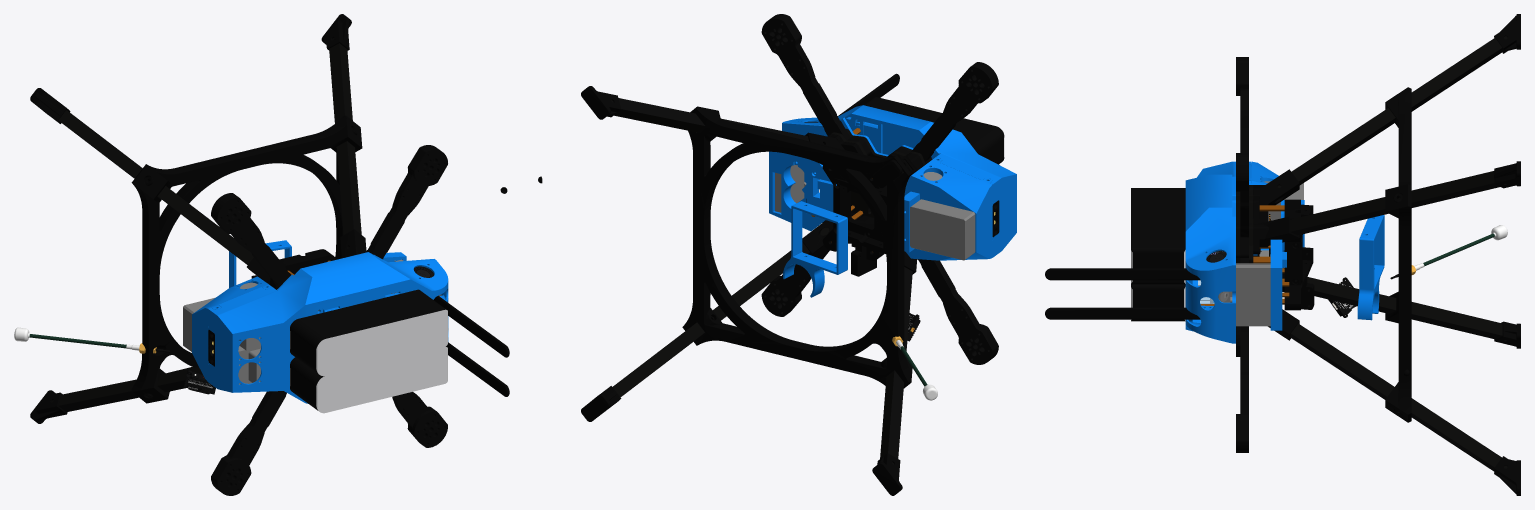
The model's file is body.obj.
3 views of the same model, side by side, from view 1: azimuth 30°, elevation 25°; view 2: azimuth 150°, elevation 25°; view 3: azimuth 270°, elevation 25° (orthographic).
Visible parts, largest first — view 1: firefighter_P4_base_link; view 2: firefighter_P4_base_link; view 3: firefighter_P4_base_link.
Boxes of the visible parts, x1=… form: firefighter_P4_base_link: x1=14, y1=14, x2=509, y2=495; firefighter_P4_base_link: x1=538, y1=14, x2=1016, y2=495; firefighter_P4_base_link: x1=1045, y1=14, x2=1520, y2=495.
Size of the model in its own units: 0.5916 by 0.4244 by 0.5485.
